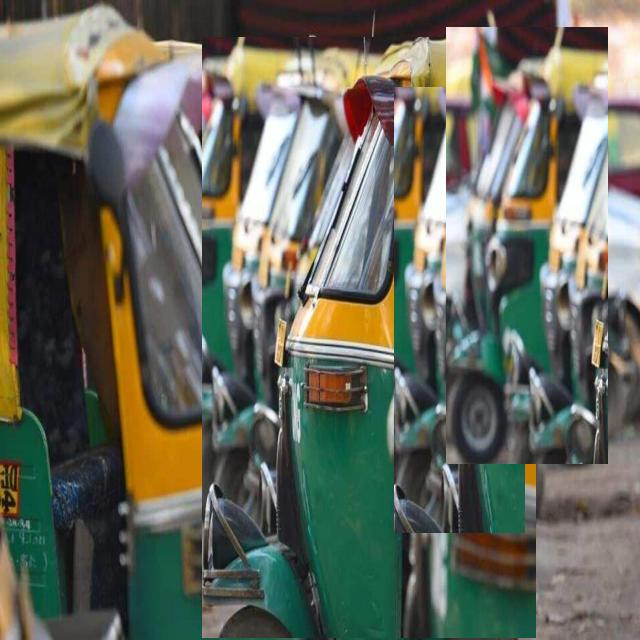autorickshaw: (0, 7, 332, 640), (202, 38, 535, 638), (446, 27, 608, 464), (394, 87, 525, 533), (438, 96, 542, 493)
